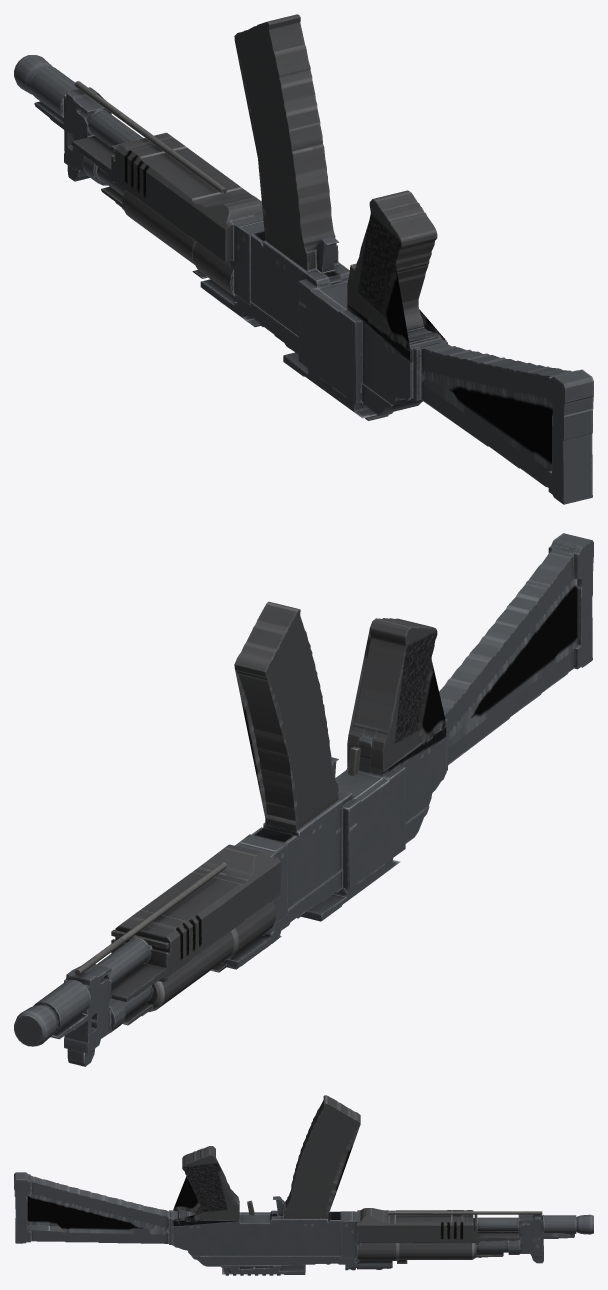
3 views of the same model, one above another, from view 1: azimuth 30°, elevation 25°; view 2: azimuth 150°, elevation 25°; view 3: azimuth 270°, elevation 25° (orthographic). The views are drawn at different scales.
Visible parts, largest first — view 1: AT_AK101_export; view 2: AT_AK101_export; view 3: AT_AK101_export.
Part boxes in pixels (box(x1,y1,x2,y2)): AT_AK101_export: box(14, 14, 593, 504); AT_AK101_export: box(14, 533, 593, 1066); AT_AK101_export: box(14, 1095, 593, 1275).
Bounding box in the file's own units: 0.0289 × 0.4964 × 0.1642.
